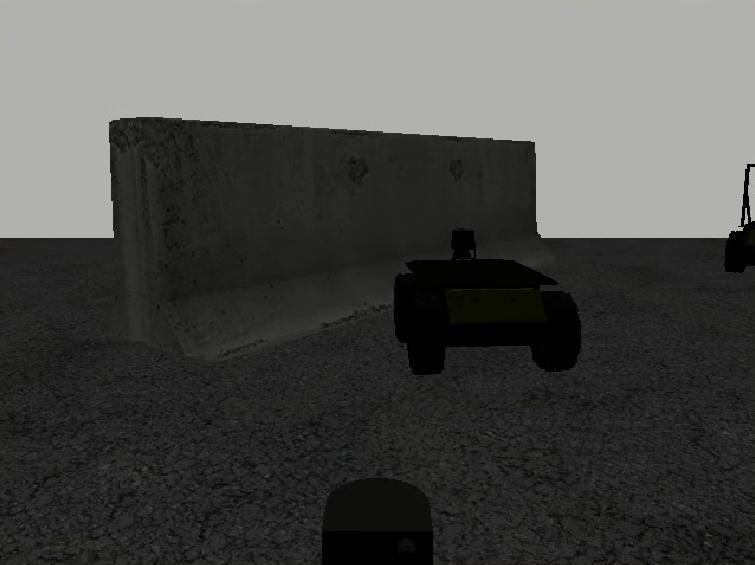husky: (393, 259, 582, 375), (725, 221, 755, 271)
